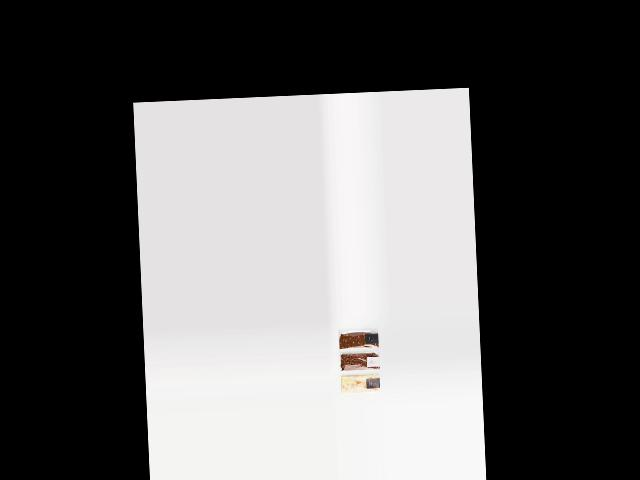chocolate: (336, 328, 378, 348)
